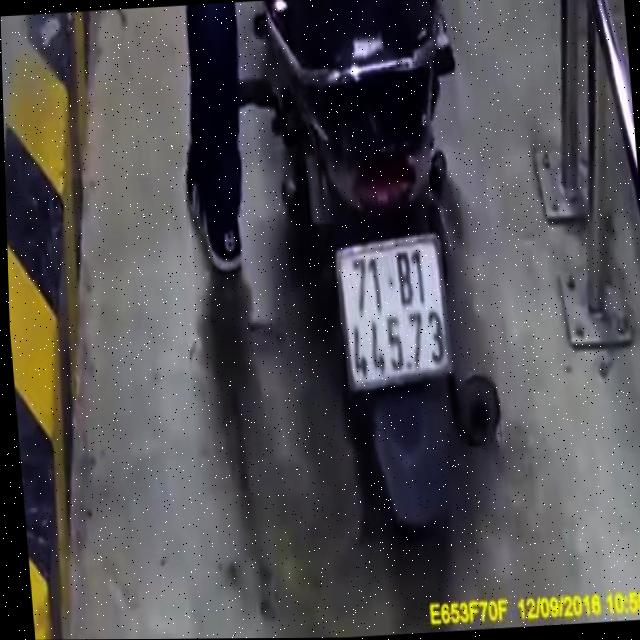motorcycle: (225, 0, 524, 555)
plate: (319, 229, 468, 394)
